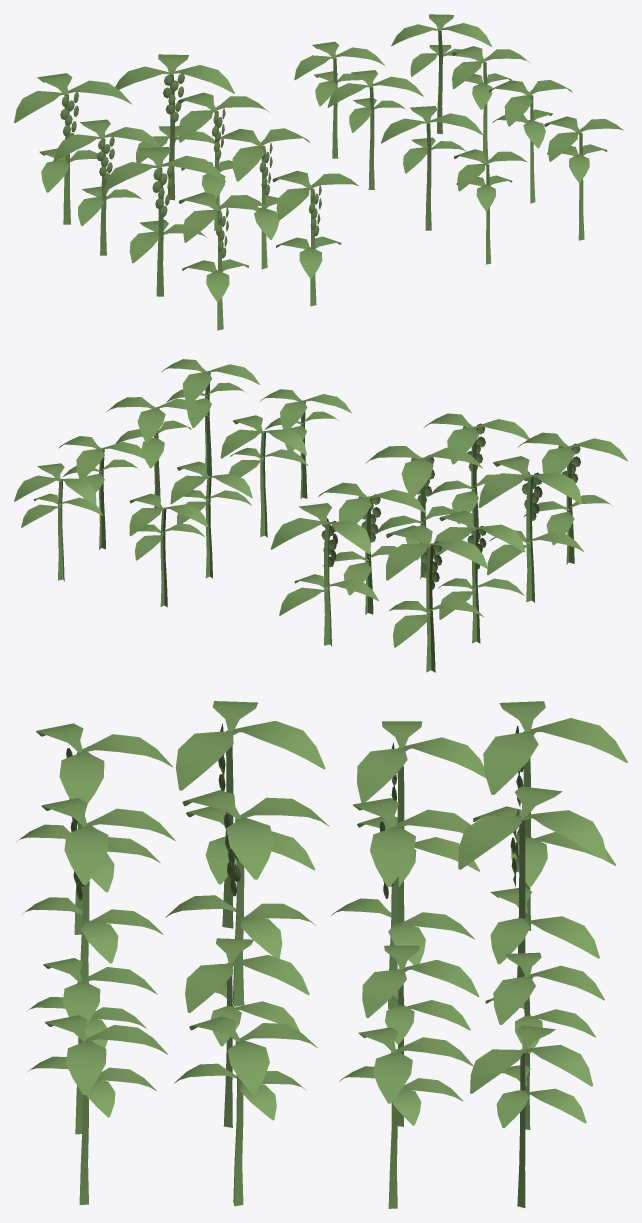
Rendered from coffee-plants.glb.
3 views of the same model, one above another, from view 1: azimuth 30°, elevation 25°; view 2: azimuth 150°, elevation 25°; view 3: azimuth 270°, elevation 25° (orthographic). The views are drawn at different scales.
Visible parts, largest first — view 1: CoffeePlant.001, CoffeePlant; view 2: CoffeePlant.001, CoffeePlant; view 3: CoffeePlant.001, CoffeePlant.
Boxes of the visible parts, x1,y1,x2,y2 form: CoffeePlant.001: (14,54,358,330); CoffeePlant: (294,14,623,264); CoffeePlant.001: (270,413,627,672); CoffeePlant: (14,359,351,607); CoffeePlant.001: (16,701,627,1009); CoffeePlant: (26,938,604,1208).
Bounding box in the file's own units: 9.44 × 2.52 × 6.89.
2 materials, 2 textured.
